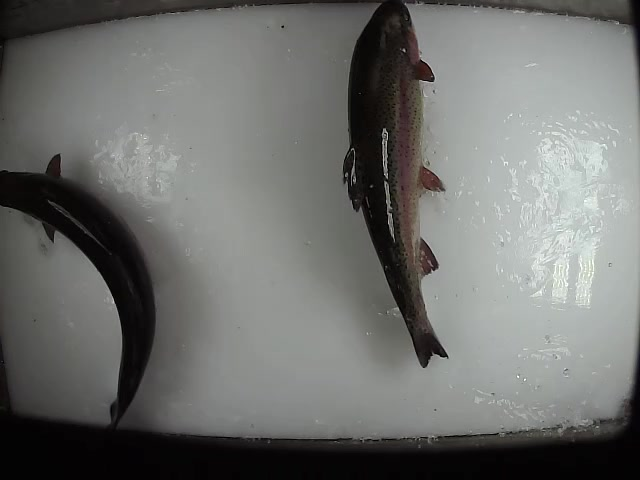fish: (1, 154, 156, 439), (339, 1, 449, 370)
